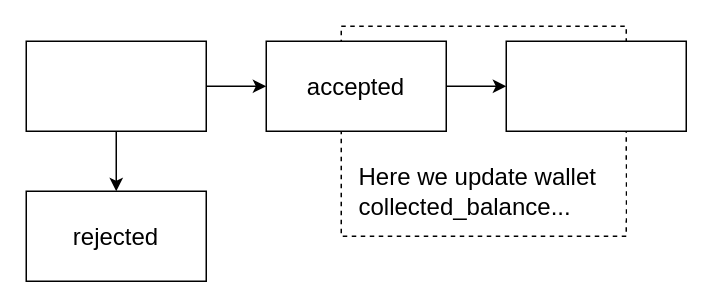
Image size: 713x308. Some labels were removed from this diagram. The centre of each missing label's shape, as x and y in pixels:
"created" belongs at point 115,85.
"done" belongs at point 595,85.
